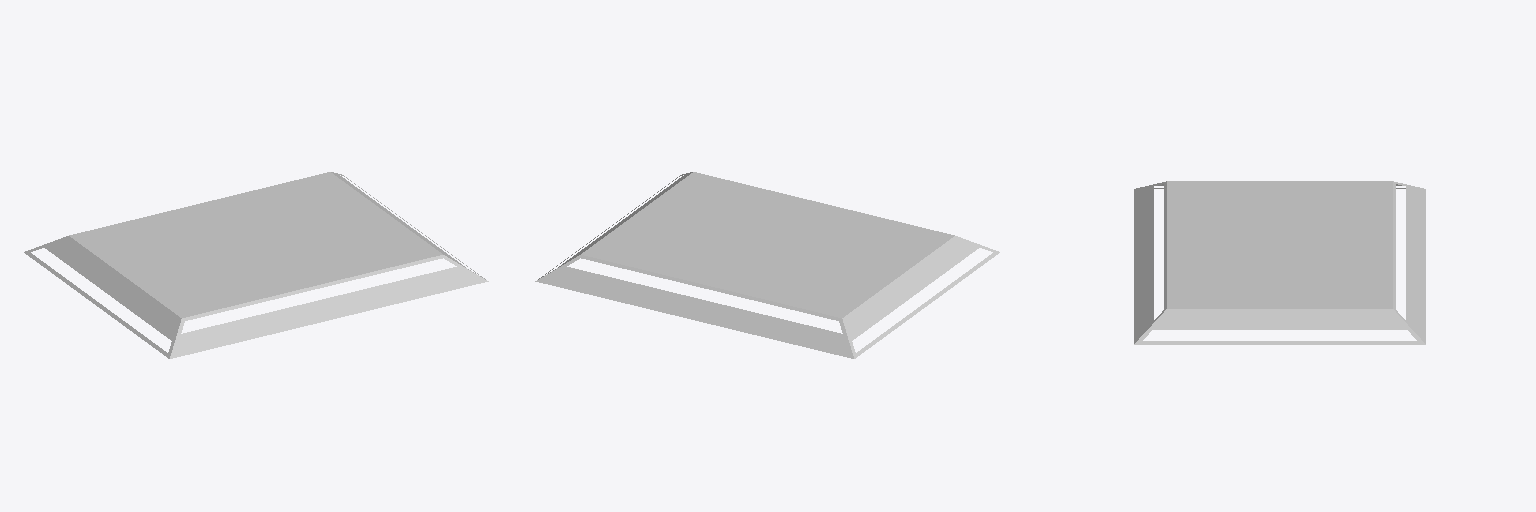
File: roof.obj
3 renders of one model, left to right at view 1: azimuth 30°, elevation 25°; view 2: azimuth 150°, elevation 25°; view 3: azimuth 270°, elevation 25°, orthographic.
Visible parts, largest first — view 1: -1._Roof_Cube.008; view 2: -1._Roof_Cube.008; view 3: -1._Roof_Cube.008.
Part boxes in pixels (x1,y1,x2,y2): -1._Roof_Cube.008: (24, 172, 488, 358); -1._Roof_Cube.008: (535, 172, 999, 358); -1._Roof_Cube.008: (1134, 181, 1425, 344).
Size of the model in its own units: 25.68 by 1.68 by 20.4.